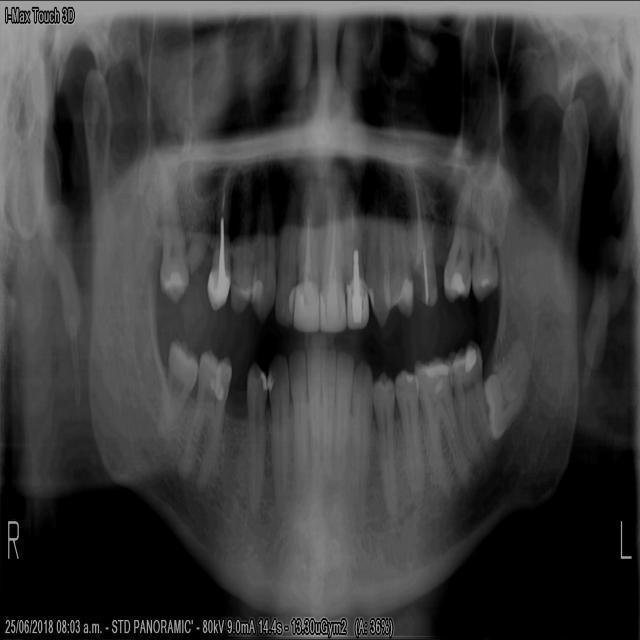LCD: (351, 359, 373, 489)
LCU: (367, 200, 392, 330)
LID: (334, 347, 354, 478), (321, 347, 336, 478)
LIU: (319, 192, 346, 330), (345, 193, 370, 328)
LMD: (415, 353, 471, 495), (451, 339, 495, 470)
LMU: (442, 192, 471, 299), (472, 197, 500, 299)
LPMD: (393, 368, 424, 500), (373, 368, 398, 527)
LPMU: (412, 195, 438, 315), (392, 209, 414, 314)
RCD: (266, 353, 291, 505)
RCU: (250, 200, 276, 328)
RID: (287, 348, 308, 487), (307, 345, 321, 479)
RIU: (272, 182, 299, 330), (293, 190, 319, 334)
RMD: (180, 357, 231, 497), (158, 337, 201, 432)
RMU: (160, 189, 192, 307), (181, 189, 210, 275)
RPMD: (245, 363, 266, 514)
RPMU: (205, 194, 231, 315), (230, 204, 254, 319)
